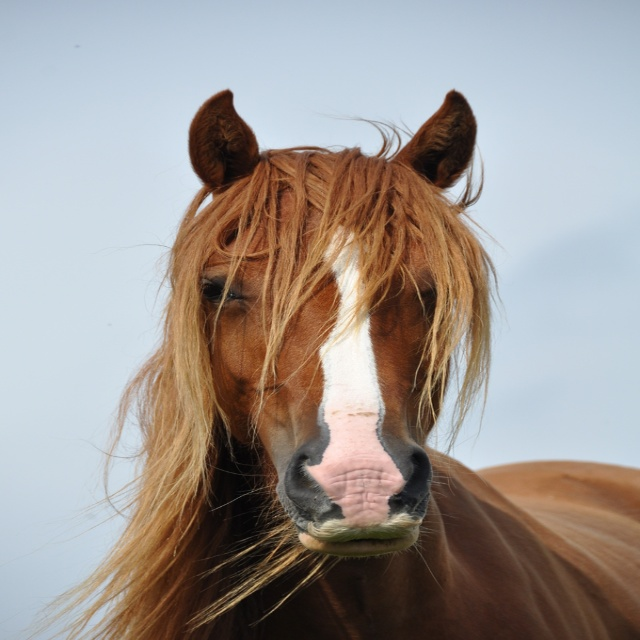Horse: (23, 84, 639, 640)
